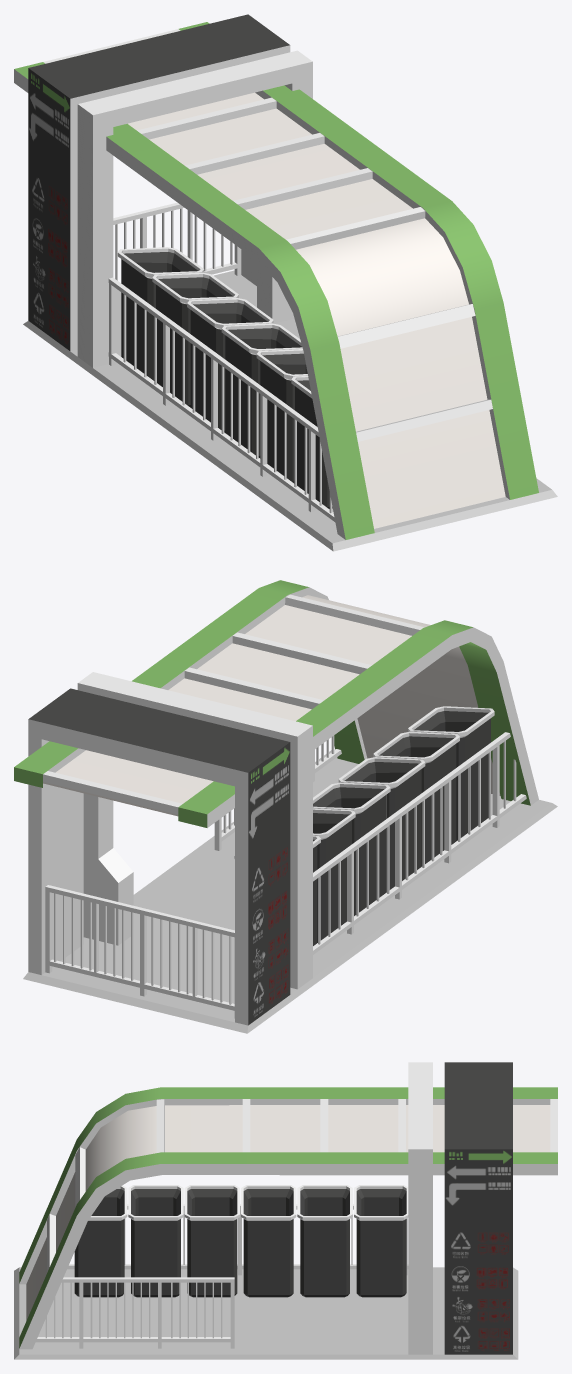
The model's file is Courier Station.fbx.
3 views of the same model, one above another, from view 1: azimuth 30°, elevation 25°; view 2: azimuth 150°, elevation 25°; view 3: azimuth 270°, elevation 25° (orthographic). The views are drawn at different scales.
Parts seen in each view (by area): view 1: _Courier_Station; view 2: _Courier_Station; view 3: _Courier_Station.
Boxes of the visible parts, <box> form: _Courier_Station: <box>14,14,557,551</box>; _Courier_Station: <box>14,580,557,1033</box>; _Courier_Station: <box>14,1062,557,1359</box>.
Bounding box in the file's own units: 3.81 × 4.18 × 9.84.
Materials: 1 (1 with a texture image).
